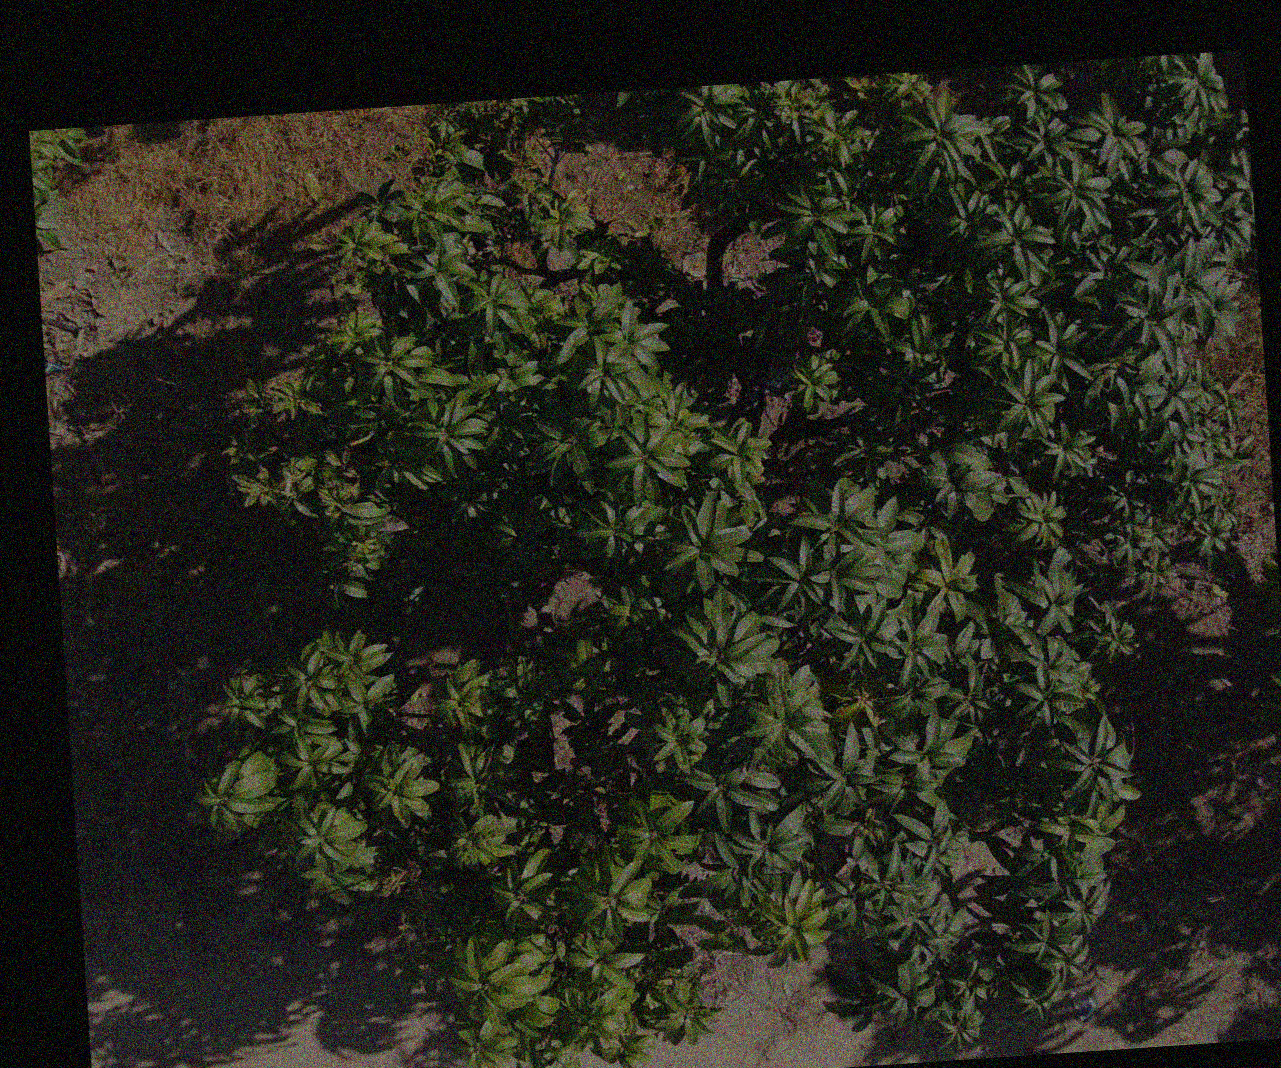flowers: (556, 94, 579, 106)
